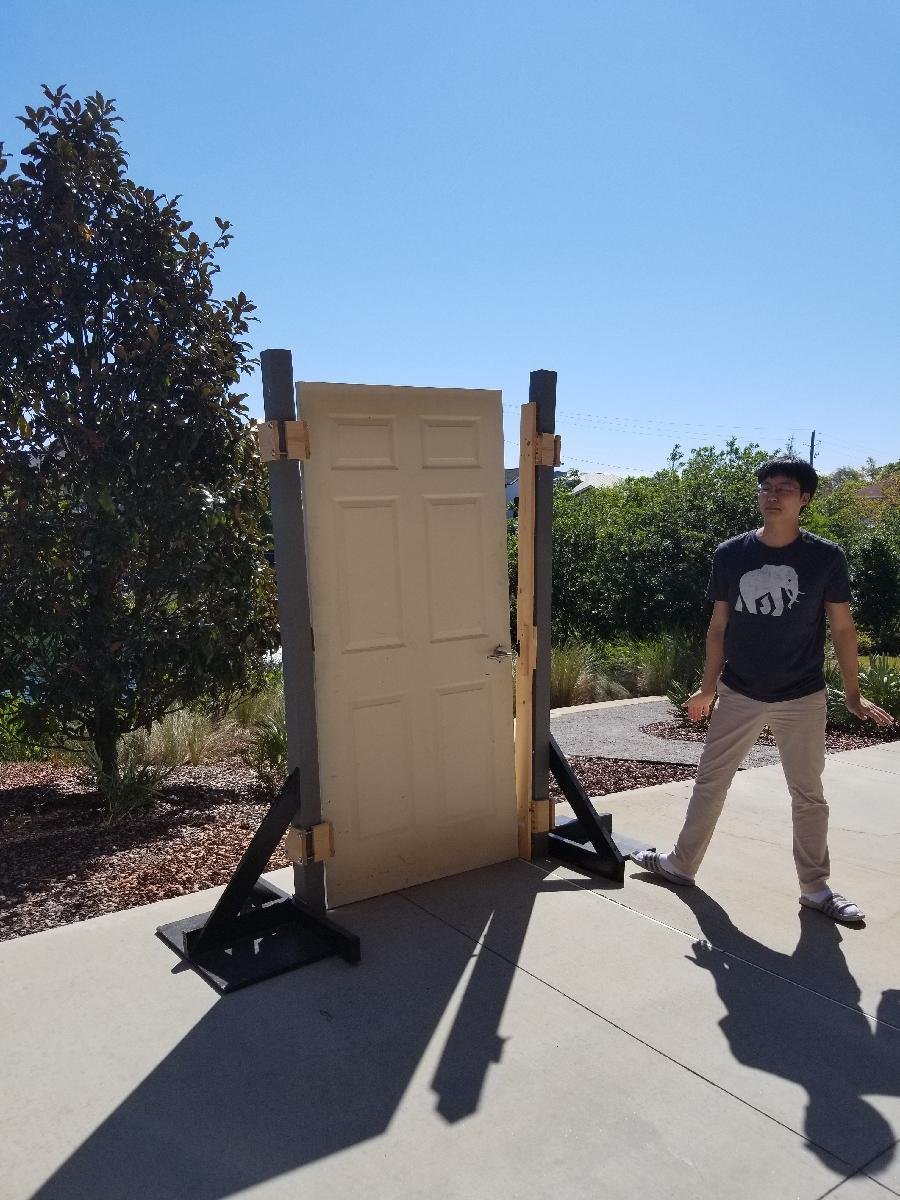door: (304, 380, 526, 900)
handle: (481, 644, 516, 664)
